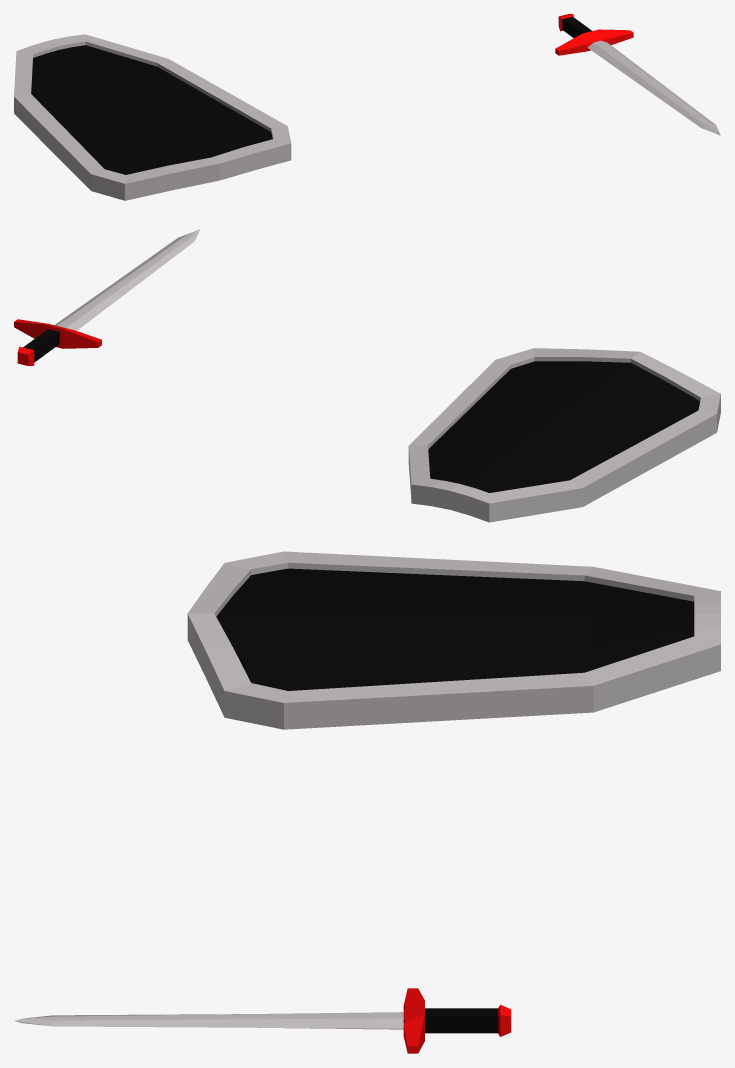
File: sword and shield.fbx
3 renders of one model, top to bottom at view 1: azimuth 30°, elevation 25°; view 2: azimuth 150°, elevation 25°; view 3: azimuth 270°, elevation 25°, orthographic. The views are drawn at different scales.
Parts seen in each view (by area): view 1: Plane, Cube.001; view 2: Plane, Cube.001; view 3: Plane, Cube.001.
Part boxes in pixels (box(x1,y1,x2,y2)): Plane: box(14, 34, 291, 200); Cube.001: box(555, 14, 720, 135); Plane: box(408, 348, 720, 522); Cube.001: box(14, 229, 199, 365); Plane: box(187, 551, 720, 729); Cube.001: box(14, 988, 511, 1053).
Bounding box in the file's own units: 0.7089 × 0.0573 × 0.4725.
